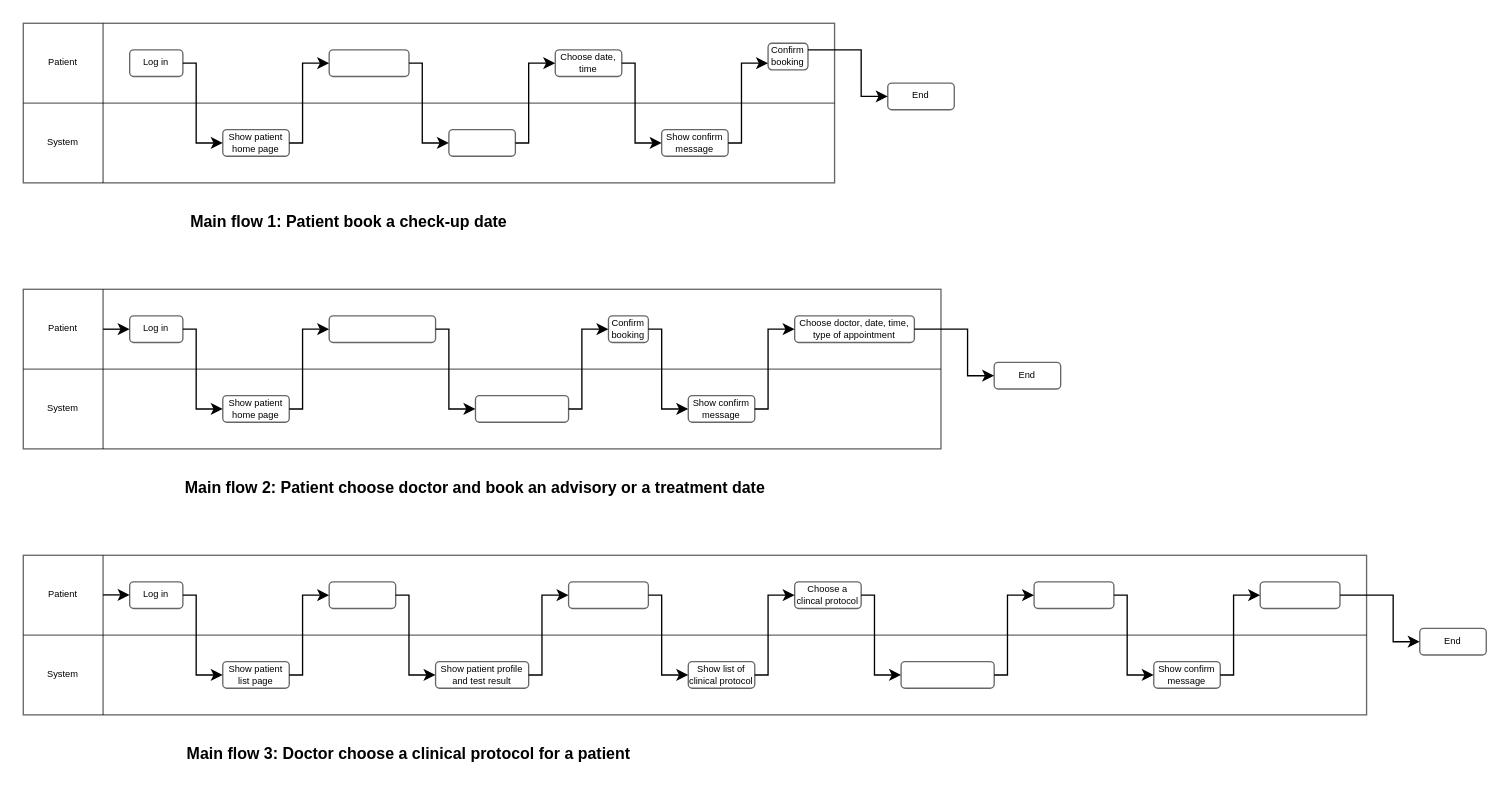
Image size: 1510x791. Some labels were removed from this diagram. The centre of each missing label's shape, as x and y in pixels:
Add clinical protocol for patient: the point at 607,594
Choose a patient to view: the point at 362,594
Choose to book a check-up: the point at 368,62
Choose to book an advisory or treatment: the point at 382,328
Confirm clinical protocal for patient: the point at 1299,594
Modify clinical protocol attributes: the point at 1073,594
Show book advisory or treatment page: the point at 521,408
Show book check-up page: the point at 481,142
Show clinical protocol description: the point at 947,674
